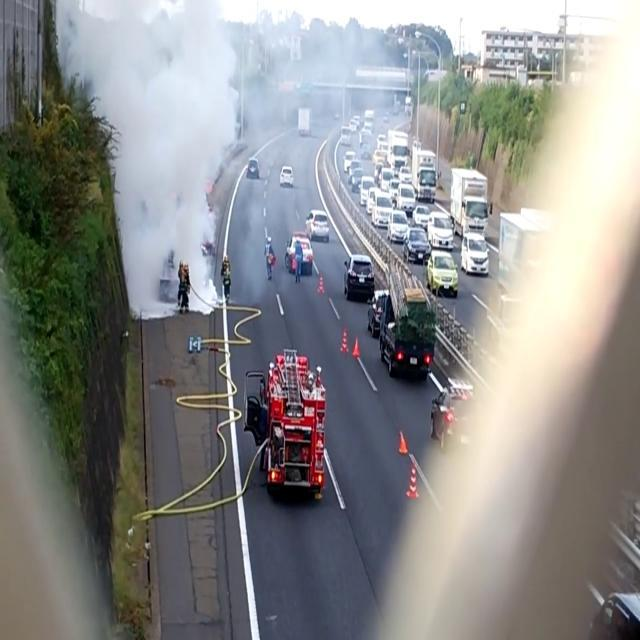Smoke: (63, 0, 258, 291)
